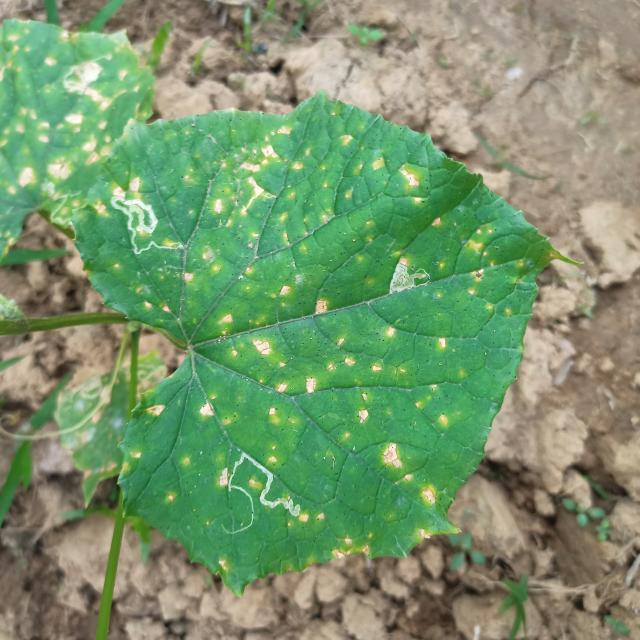disease_cucumber: (90, 123, 514, 545), (5, 48, 126, 184)
